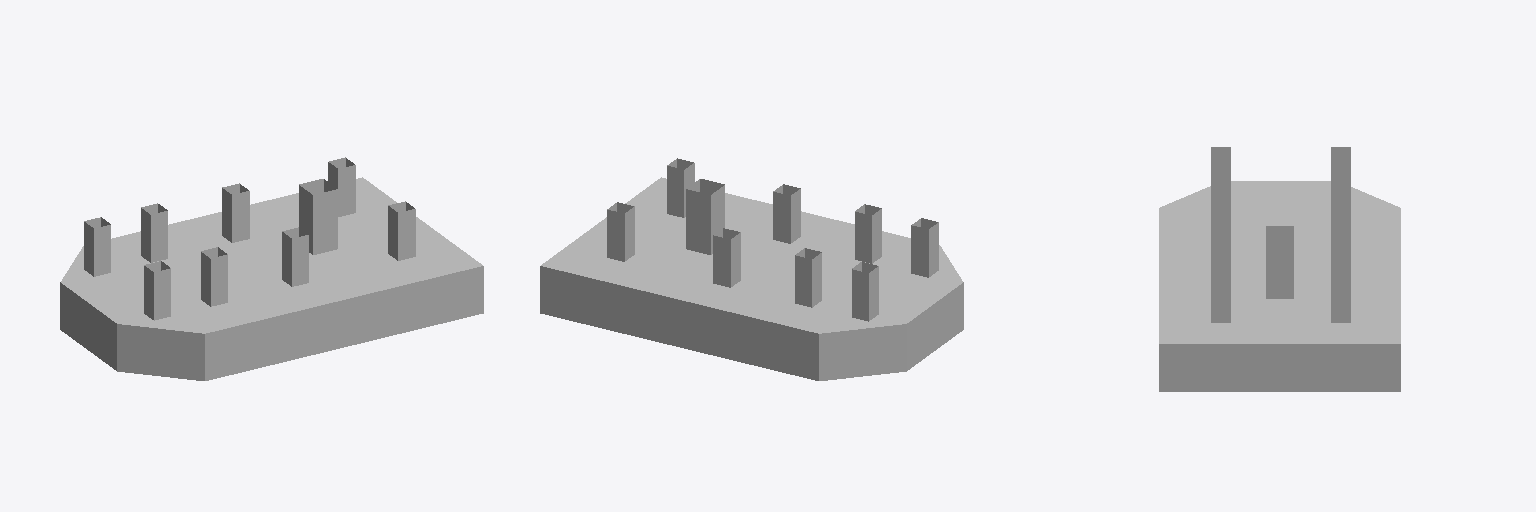
The model's file is ArmoryRoom.obj.
The picture shows the model from 3 angles: view 1: azimuth 30°, elevation 25°; view 2: azimuth 150°, elevation 25°; view 3: azimuth 270°, elevation 25°; orthographic projection.
Visible parts, largest first — view 1: Cube_6_Scene.011; view 2: Cube_6_Scene.011; view 3: Cube_6_Scene.011.
Boxes of the visible parts, box(x1,y1,x2,y2) form: Cube_6_Scene.011: box(60, 157, 483, 380); Cube_6_Scene.011: box(540, 158, 963, 380); Cube_6_Scene.011: box(1159, 147, 1400, 391).
Bounding box in the file's own units: 47.87 × 14.77 × 30.